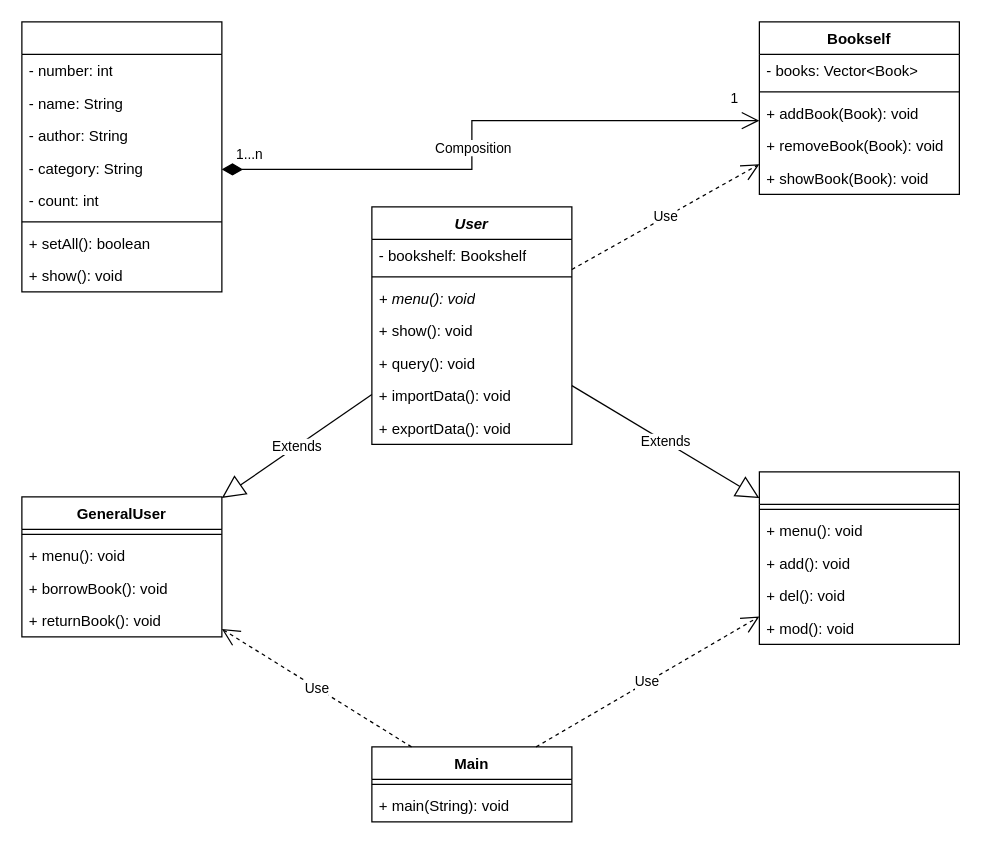
The diagram is 981 pixels wide and 848 high, and some of its shapes have lost their labels. The shapes that lost their labels are listed below. From the top down, each one's box as (x1, y1, x2, y2) in pixels, then its label:
(21, 21, 222, 292): Book
(758, 471, 959, 644): Administrator
